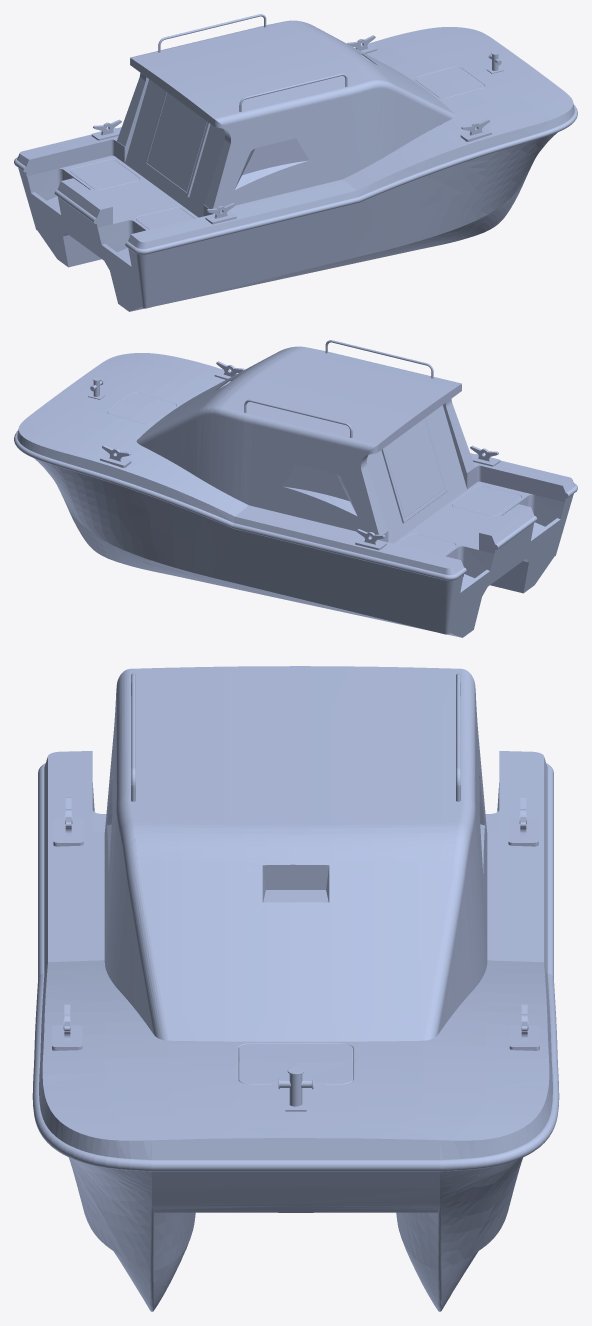
File: M5_body.dae
3 views of the same model, one above another, from view 1: azimuth 30°, elevation 25°; view 2: azimuth 150°, elevation 25°; view 3: azimuth 270°, elevation 25° (orthographic). The views are drawn at different scales.
Parts seen in each view (by area): view 1: 520型船; view 2: 520型船; view 3: 520型船.
Part boxes in pixels (<box>): 520型船: <box>14,14,577,311</box>; 520型船: <box>14,340,577,637</box>; 520型船: <box>32,666,559,1311</box>.
Bounding box in the file's own units: 5.26 × 2.62 × 2.2.
